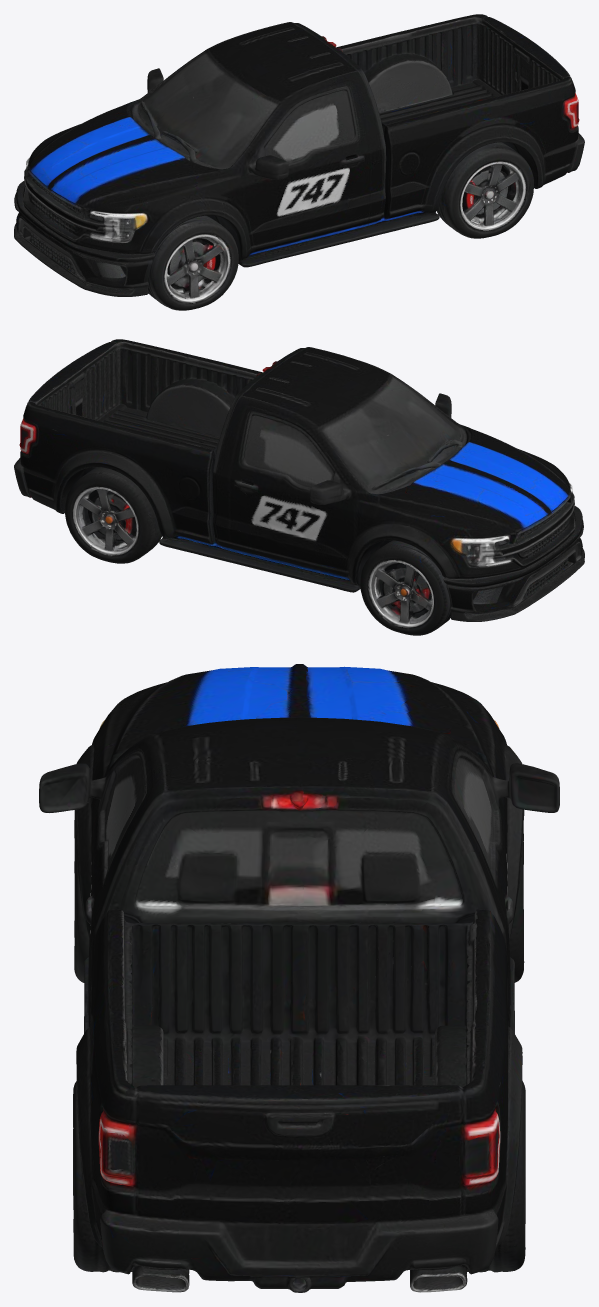
File: Meshy_AI_Paid_to_Overtake_Model_Reference_20261118_texture_181650tris.glb
The picture shows the model from 3 angles, top to bottom: view 1: azimuth 30°, elevation 25°; view 2: azimuth 150°, elevation 25°; view 3: azimuth 270°, elevation 25°; orthographic projection. The views are drawn at different scales.
Parts seen in each view (by area): view 1: Mesh_0; view 2: Mesh_0; view 3: Mesh_0.
Part boxes in pixels (<box>): Mesh_0: <box>14,14,584,310</box>; Mesh_0: <box>14,339,584,635</box>; Mesh_0: <box>39,664,559,1292</box>.
Size of the model in its own units: 190 by 65.62 by 85.05.
1 material, 1 textured.
